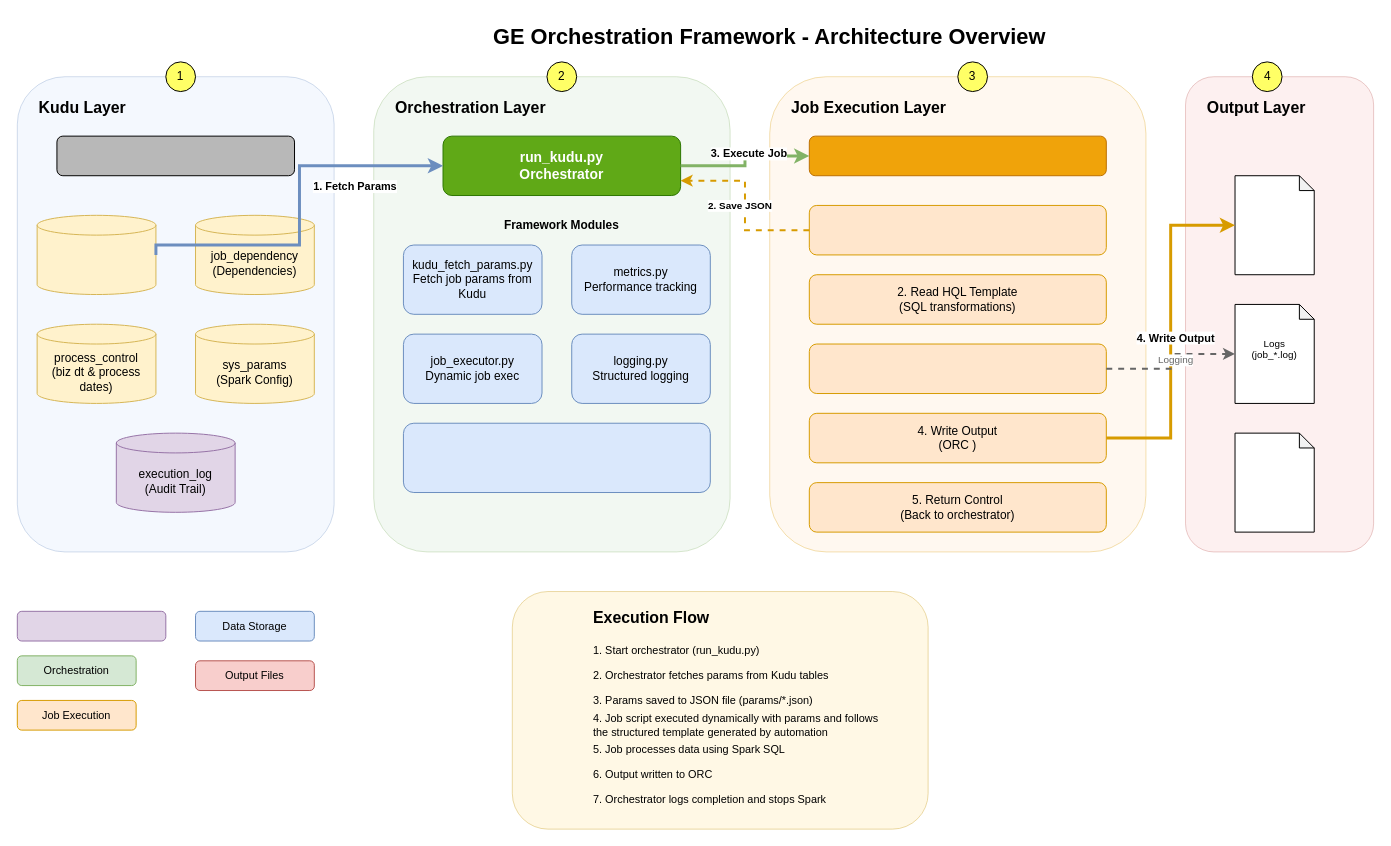
Some shapes in this 1391 by 846 pixel diagram are drawn without their labels. Each missing label, with the centre of its shape:
1. Load Job Params (from JSON): [957,229]
3. Execute Spark SQL (Data processing): [957,368]
etl_lnd_gels_fpms_t_contract_master.py: [957,155]
gels_fpms_t_ contract_master.orc file: [1274,225]
Job Params JSON (params/*.json): [1274,482]
job_master (Job details): [96,254]
Kudu Cluster (Docker): [175,155]
params_loader.py JSON I/O: [556,457]
Supporting Components: [91,625]
